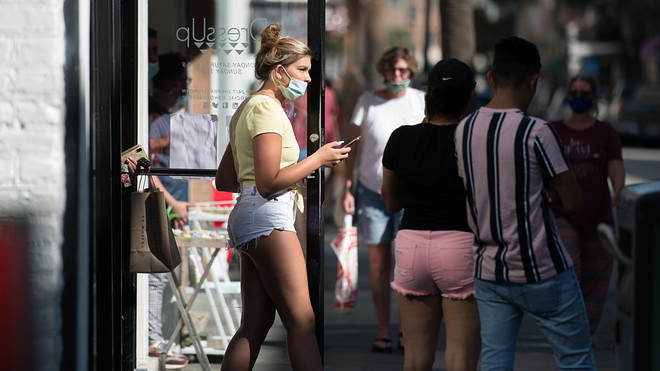mask_weared_incorrect: (272, 52, 313, 105), (382, 57, 413, 95)
